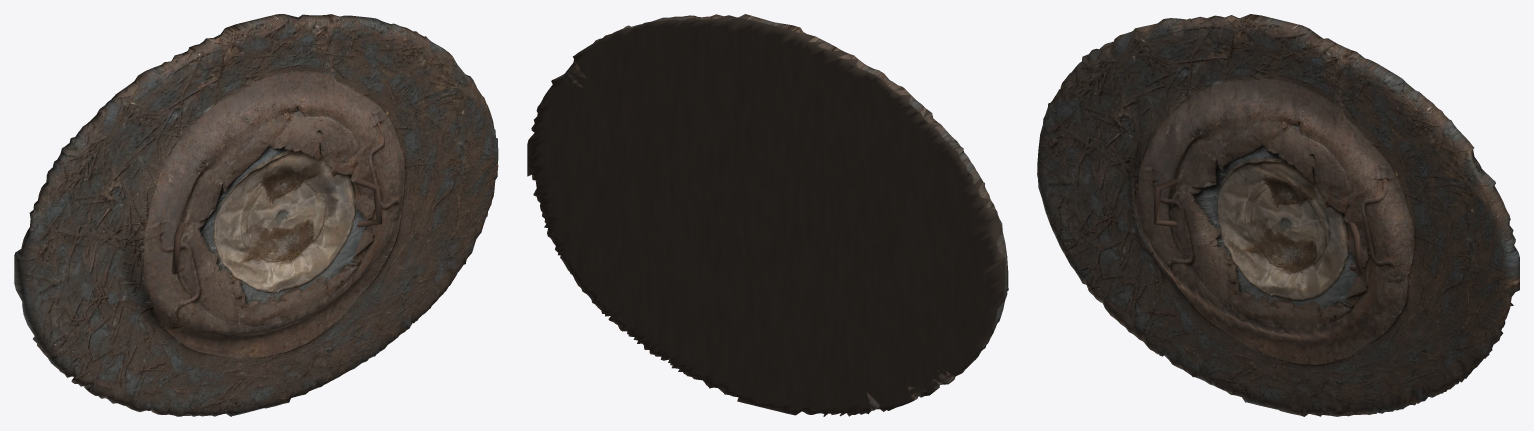
File: escultura-esc-018.glb
3 renders of one model, left to right at view 1: azimuth 30°, elevation 25°; view 2: azimuth 150°, elevation 25°; view 3: azimuth 330°, elevation 25°, orthographic.
Visible parts, largest first — view 1: world; view 2: world; view 3: world.
Boxes of the visible parts, box(x1,y1,x2,y2) form: world: box(14, 14, 498, 416); world: box(527, 14, 1008, 416); world: box(1037, 14, 1519, 416).
Bounding box in the file's own units: 0.676 × 0.52 × 0.059.
Materials: 1 (1 with a texture image).
